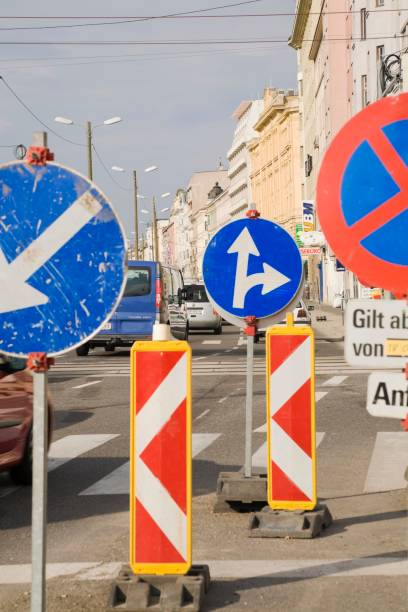ileri_veya_saga: (203, 219, 307, 317)
yaya: (257, 312, 351, 521), (125, 328, 196, 589)
